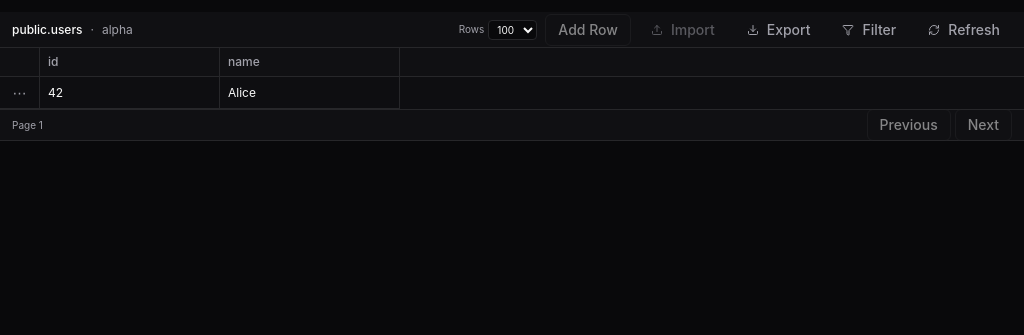
TableDataView row copy › reports a copy failure without breaking the grid
Expected: the table named "Table data grid" is shown, [0, 48, 1023, 109]
Press ArrowDown in the button "⋯", box [6, 86, 32, 100]
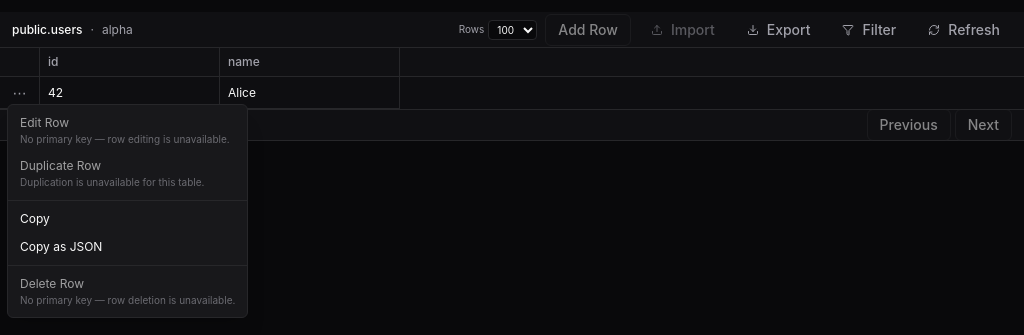
Click the menu item "Copy": (35, 218) [20, 211, 50, 226]
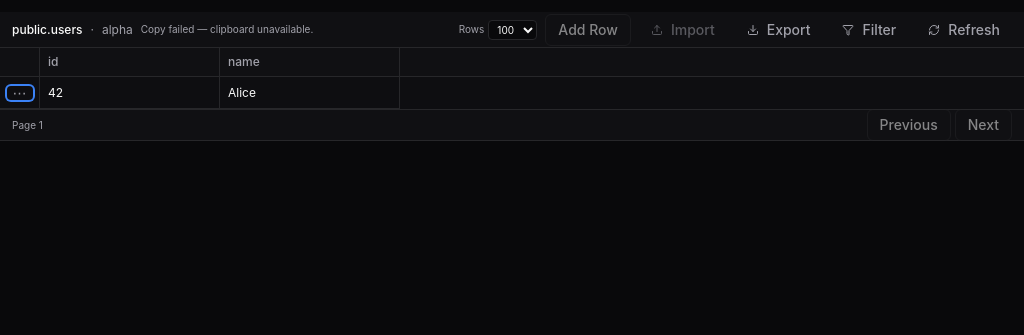
Expected: the table named "Table data grid" is shown, [0, 48, 1023, 109]
Expected: the text with test id "table-data-status" shows "Copy failed", [141, 23, 313, 35]
